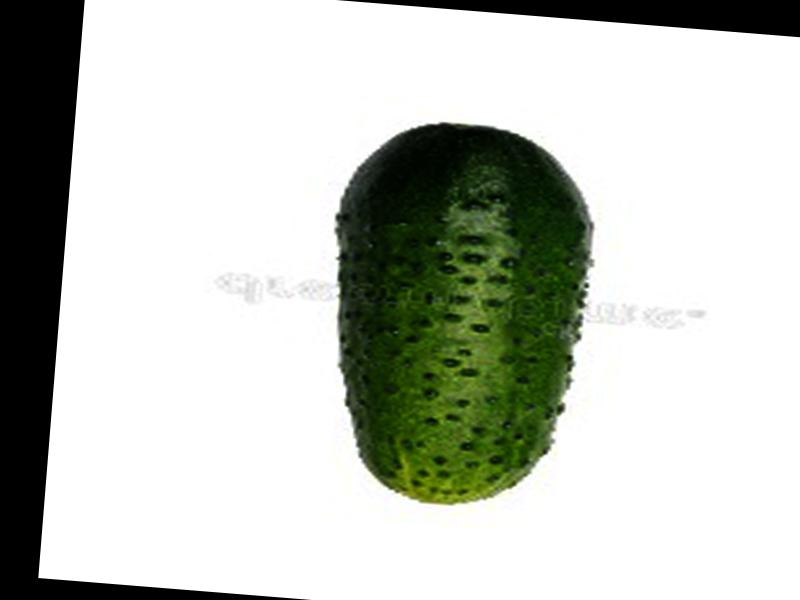Cucumber: (314, 114, 604, 517)
